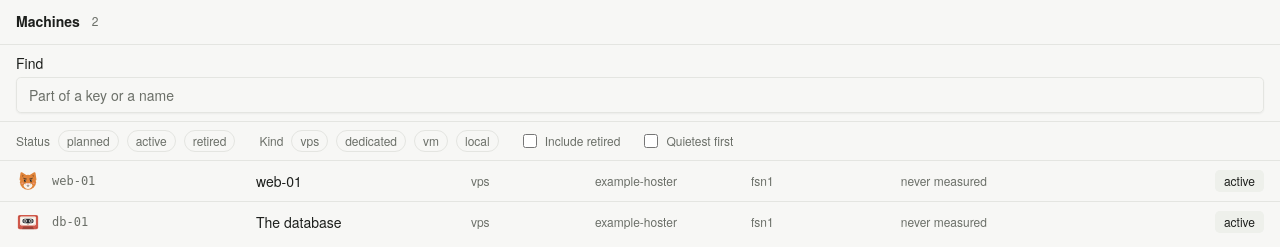
Test: the machines (VISION 6.2) › narrows by a typed word, over the key and the name alike
Expected: the link "web-01 web-01 vps example-hoster fsn1 never measured active" is shown, [0, 161, 1279, 201]
Step 1. Type "database" into the search field labelled "Find" → (640, 95), box [16, 77, 1264, 113]
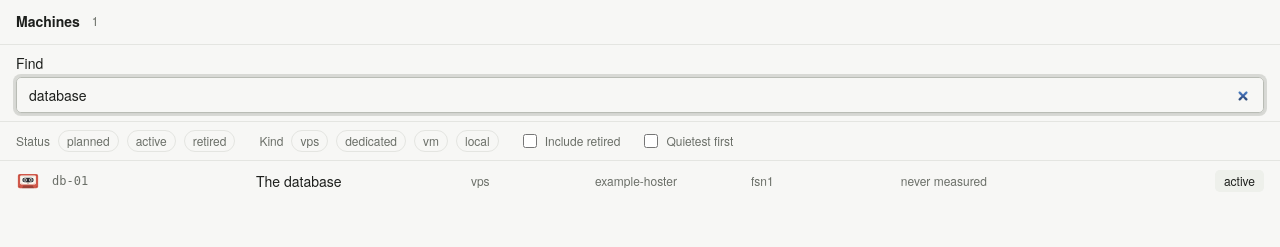
Expected: the link "db-01" is shown, [0, 161, 1279, 201]
Expected: the link "web-01" is gone
